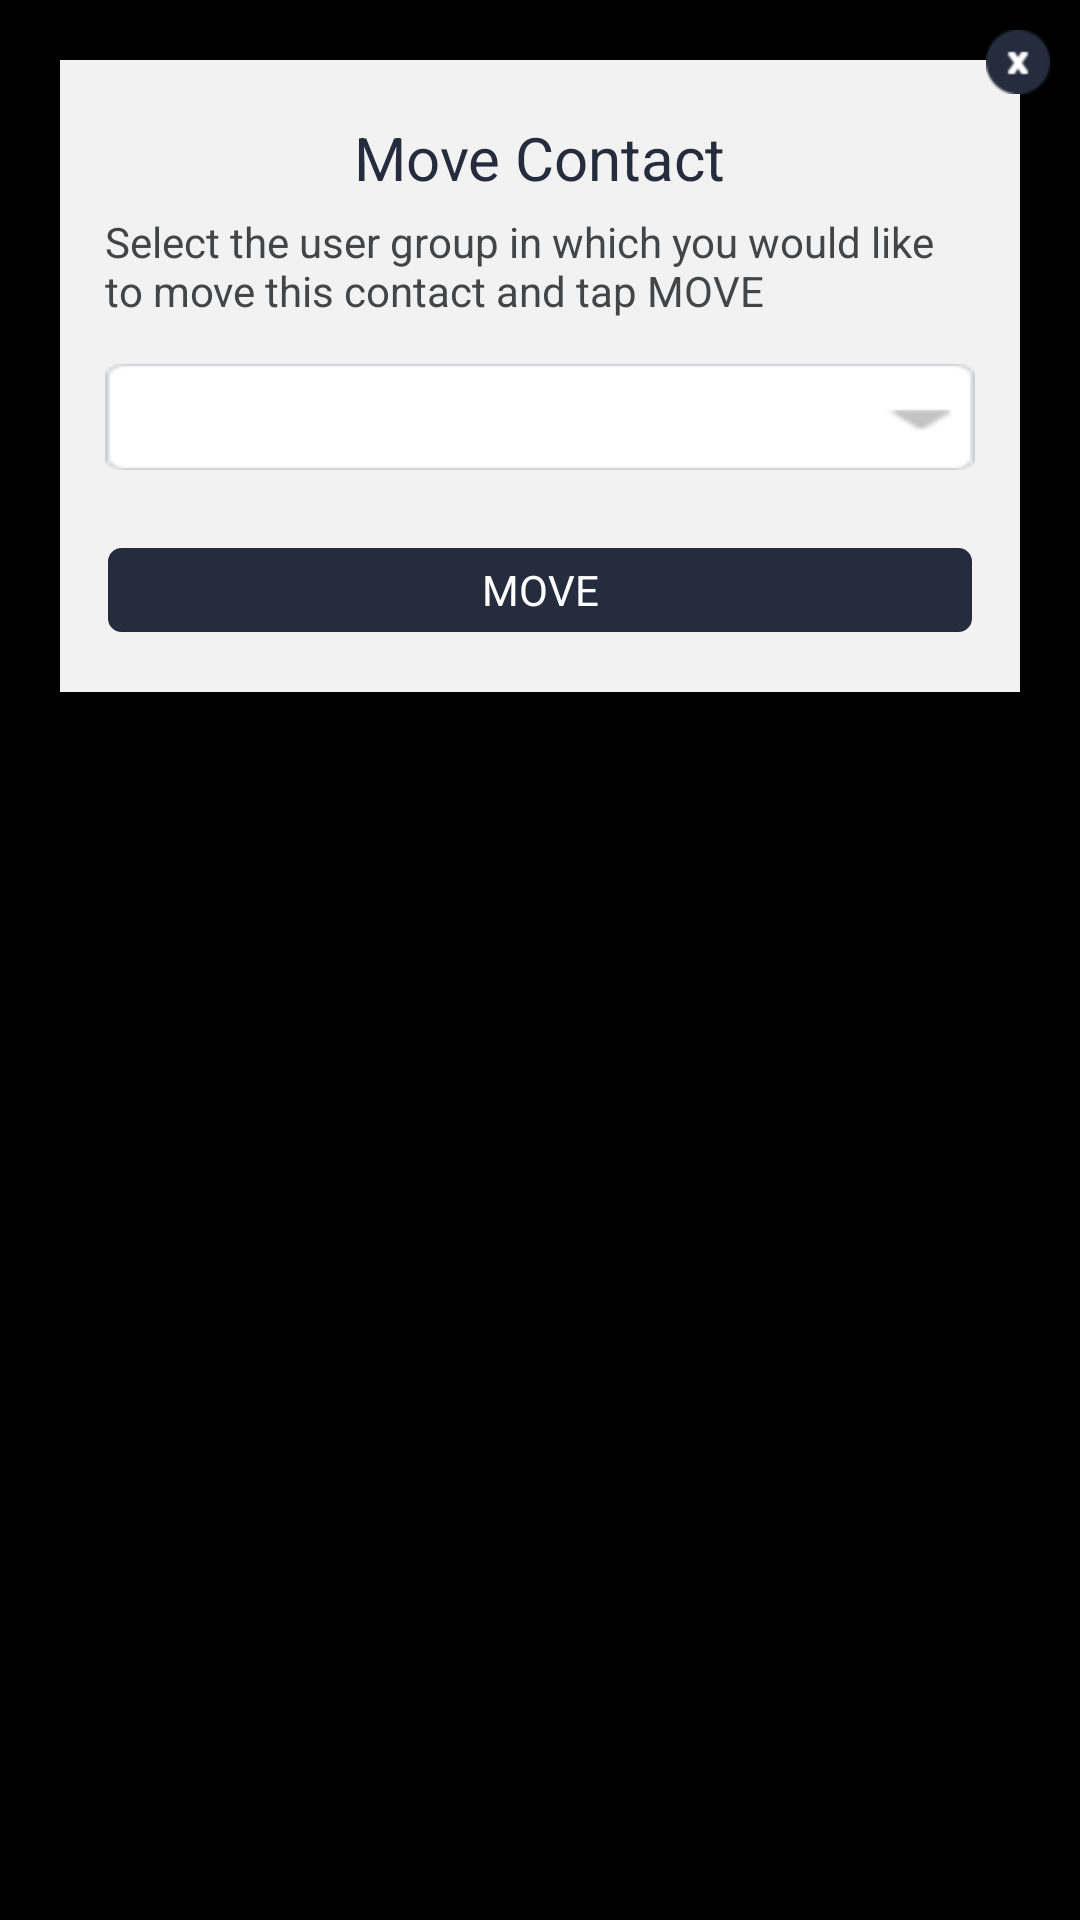

Named icons in this screenshot (1080px x 1920px) and their bounding boxes, (x1, y1, x2, y2):
cross: (986, 30, 1050, 94)
